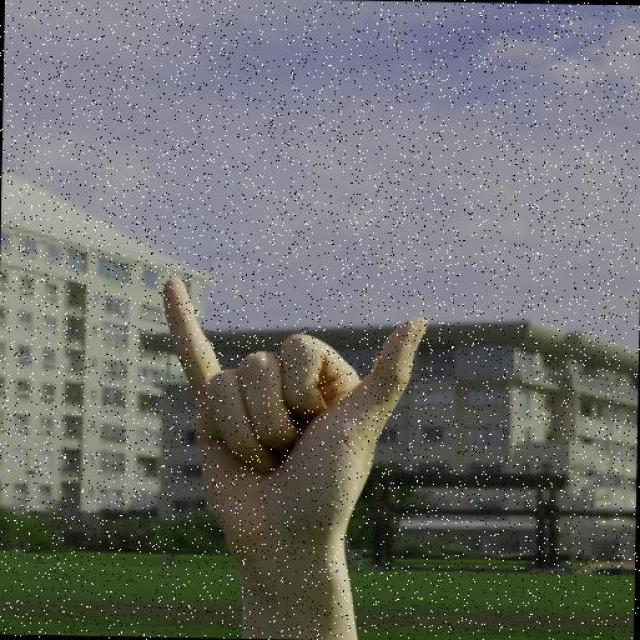Y: (156, 273, 435, 578)
